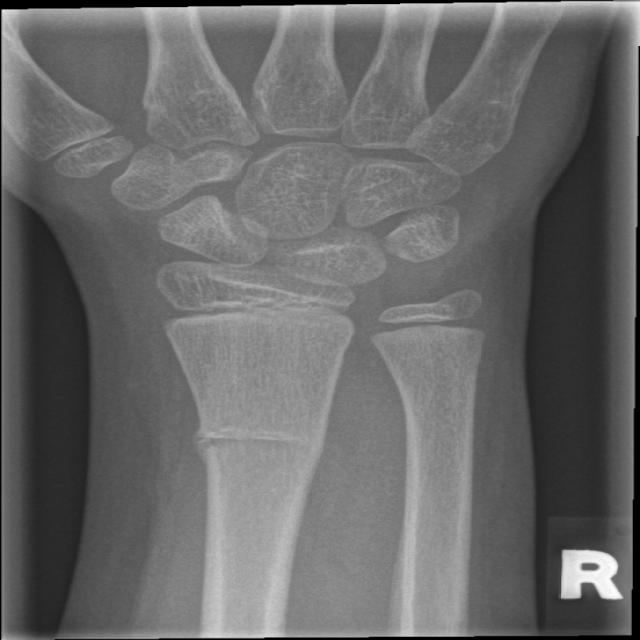radius fracture: (175, 384, 355, 592)
